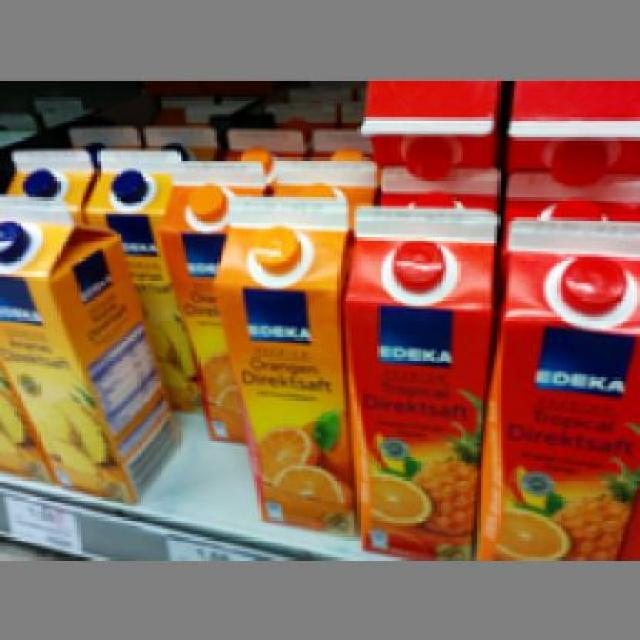Juice: (337, 203, 497, 560), (0, 190, 180, 507), (472, 214, 628, 557), (214, 192, 354, 532)
